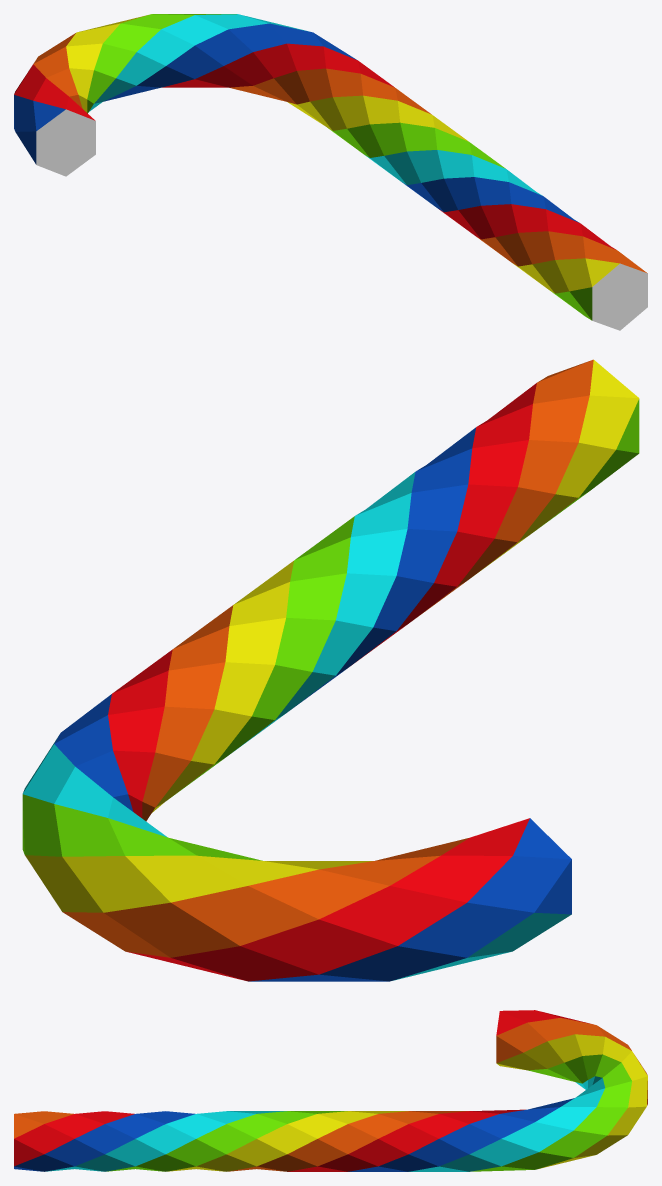
Rendered from sugar-cane-r.fbx.
3 renders of one model, top to bottom at view 1: azimuth 30°, elevation 25°; view 2: azimuth 150°, elevation 25°; view 3: azimuth 270°, elevation 25°, orthographic. The views are drawn at different scales.
Parts seen in each view (by area): view 1: Circle; view 2: Circle; view 3: Circle.
Part boxes in pixels (box(x1,y1,x2,y2)): Circle: box(14, 14, 647, 330); Circle: box(22, 359, 639, 981); Circle: box(14, 1010, 647, 1171).
Bounding box in the file's own units: 246 × 50 × 520.
